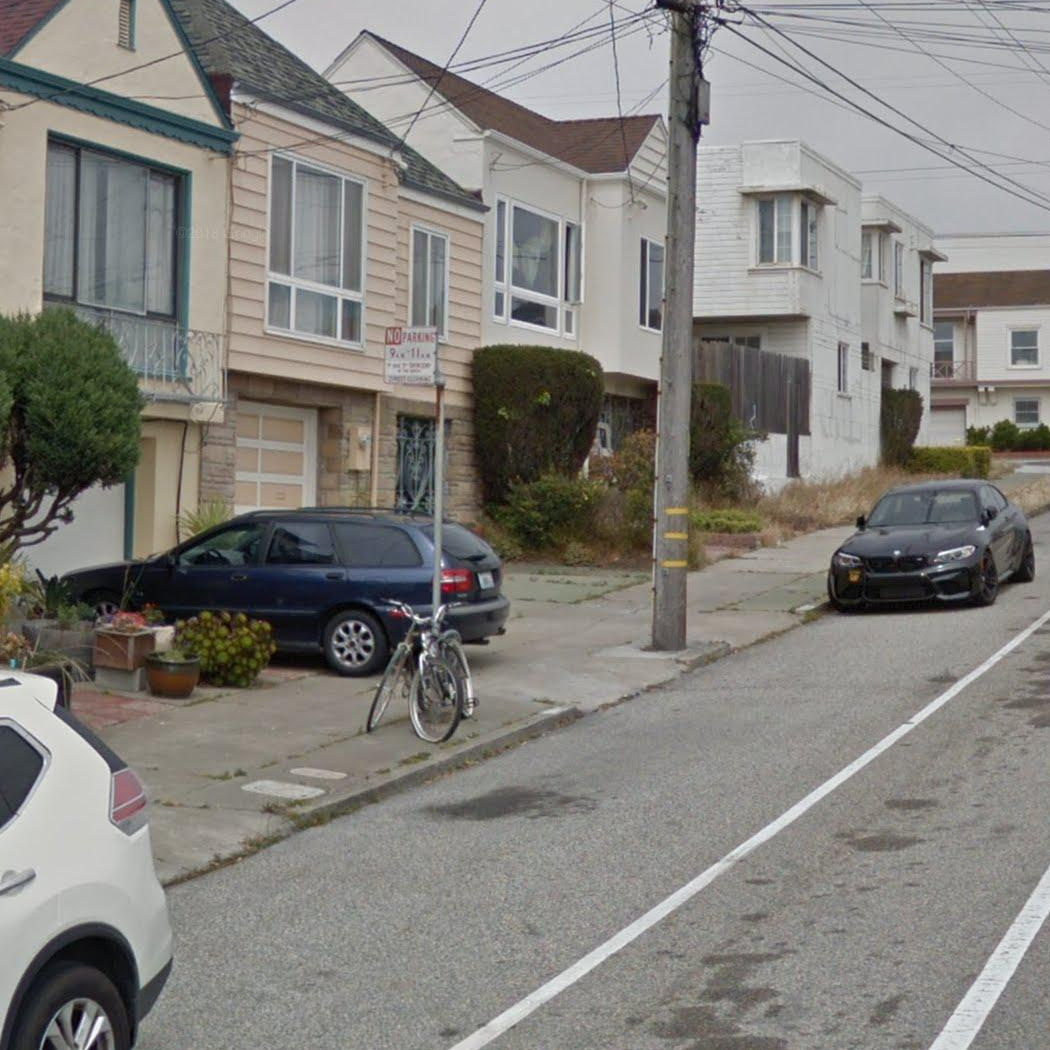No Parking: (382, 324, 439, 387)
